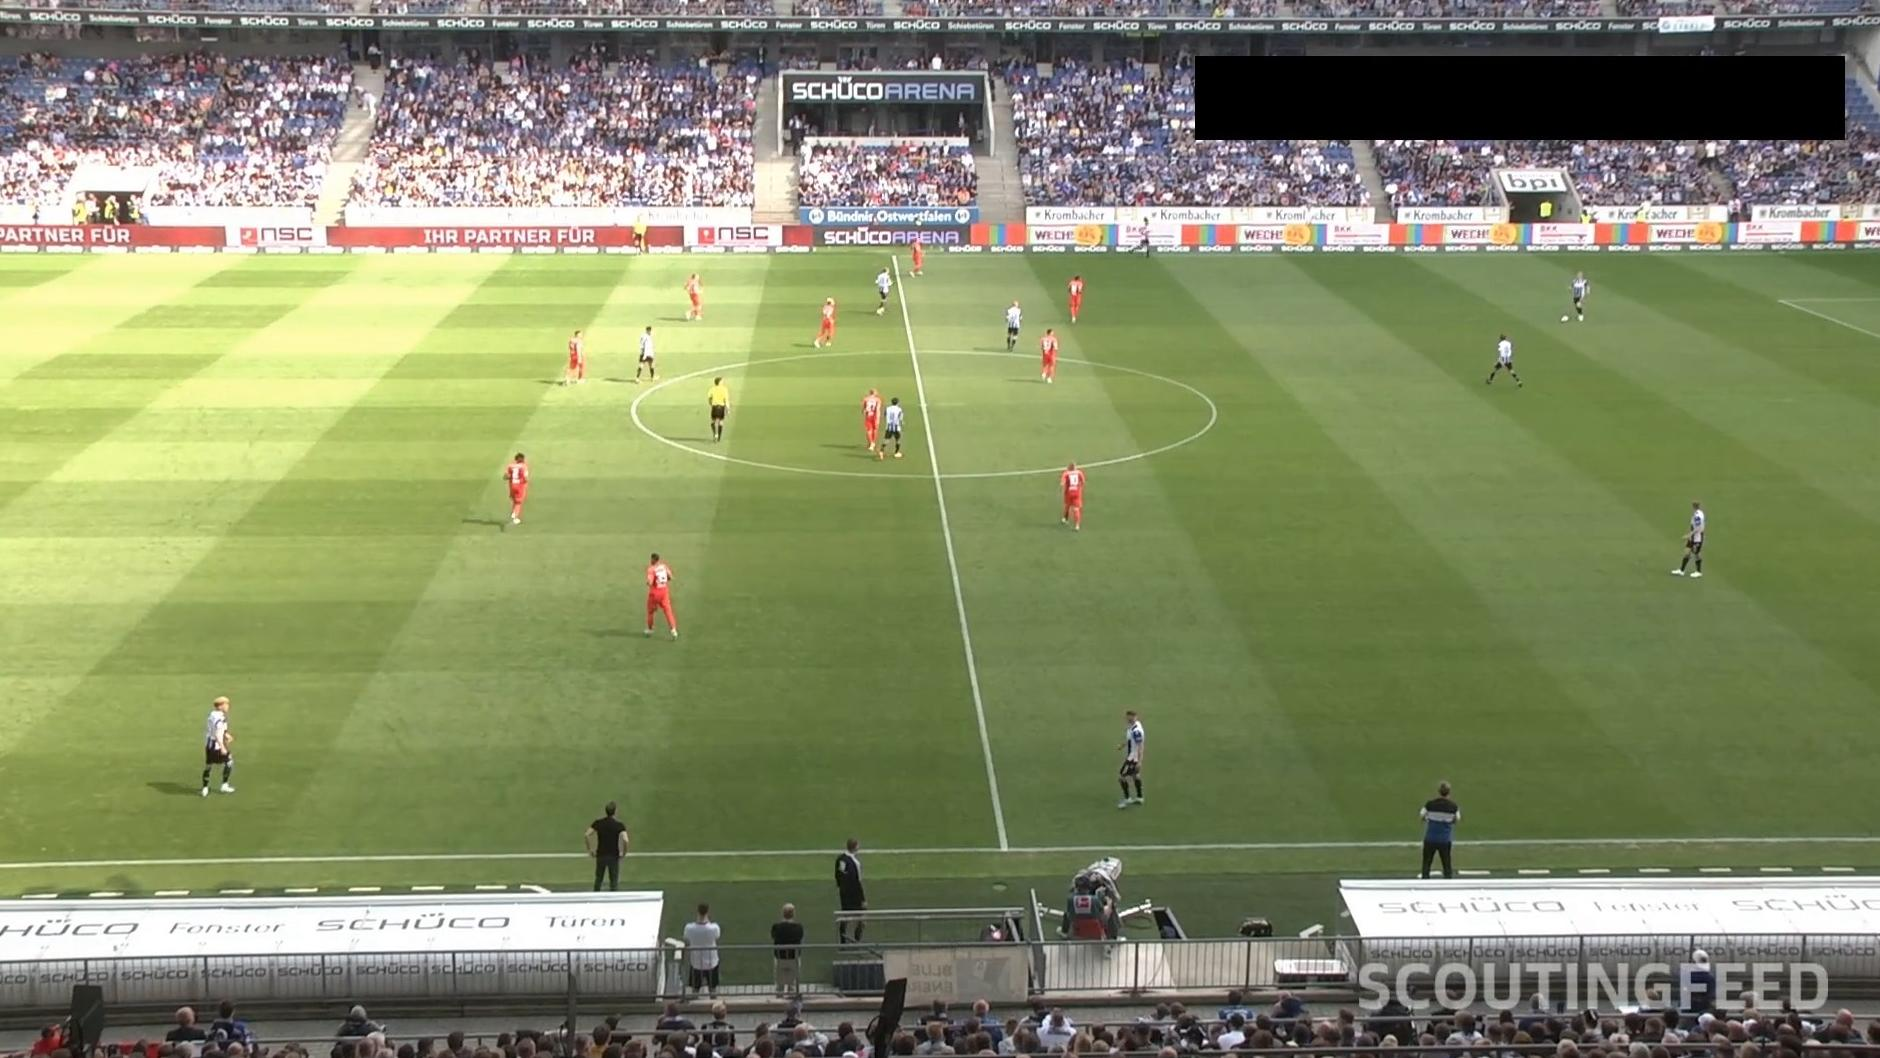ball: (1560, 313, 1570, 323)
